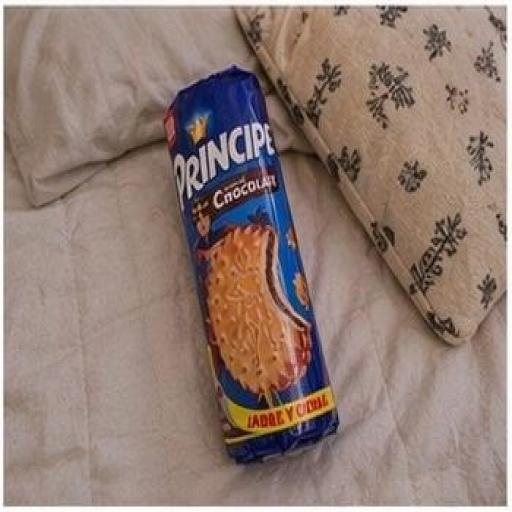prince: (126, 44, 391, 495)
